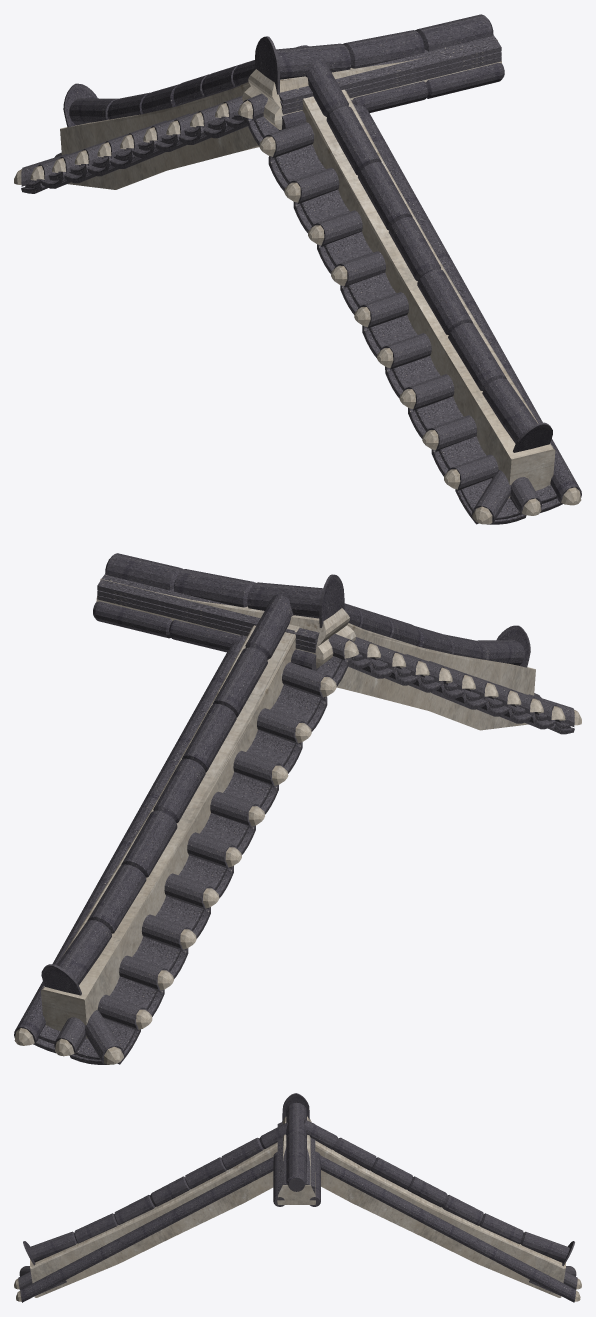
Rendered from SM_R_RoofOuter_6.fbx.
3 views of the same model, one above another, from view 1: azimuth 30°, elevation 25°; view 2: azimuth 150°, elevation 25°; view 3: azimuth 270°, elevation 25° (orthographic). The views are drawn at different scales.
Visible parts, largest first — view 1: SM_R_RoofOuter_6; view 2: SM_R_RoofOuter_6; view 3: SM_R_RoofOuter_6.
Part boxes in pixels (box(x1,y1,x2,y2)): SM_R_RoofOuter_6: box(14, 14, 581, 524); SM_R_RoofOuter_6: box(14, 553, 581, 1064); SM_R_RoofOuter_6: box(14, 1093, 581, 1302).
Size of the model in its own units: 190 by 637 by 236.
Materials: 2 (2 with a texture image).
